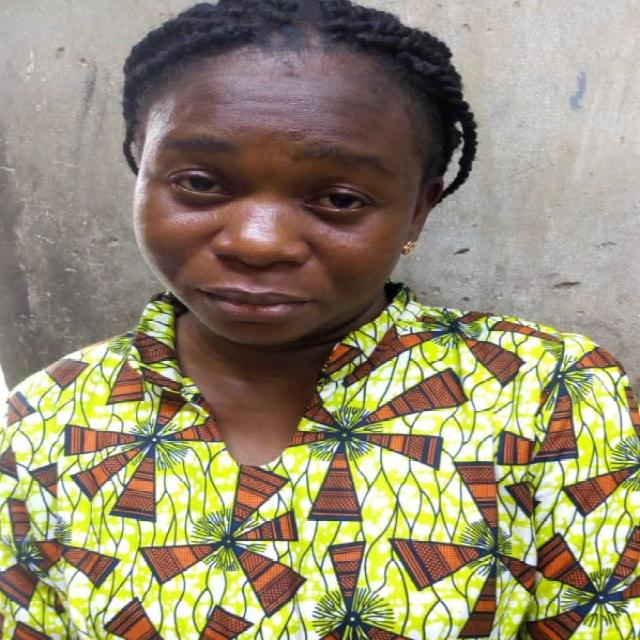sad: (112, 2, 455, 360)
